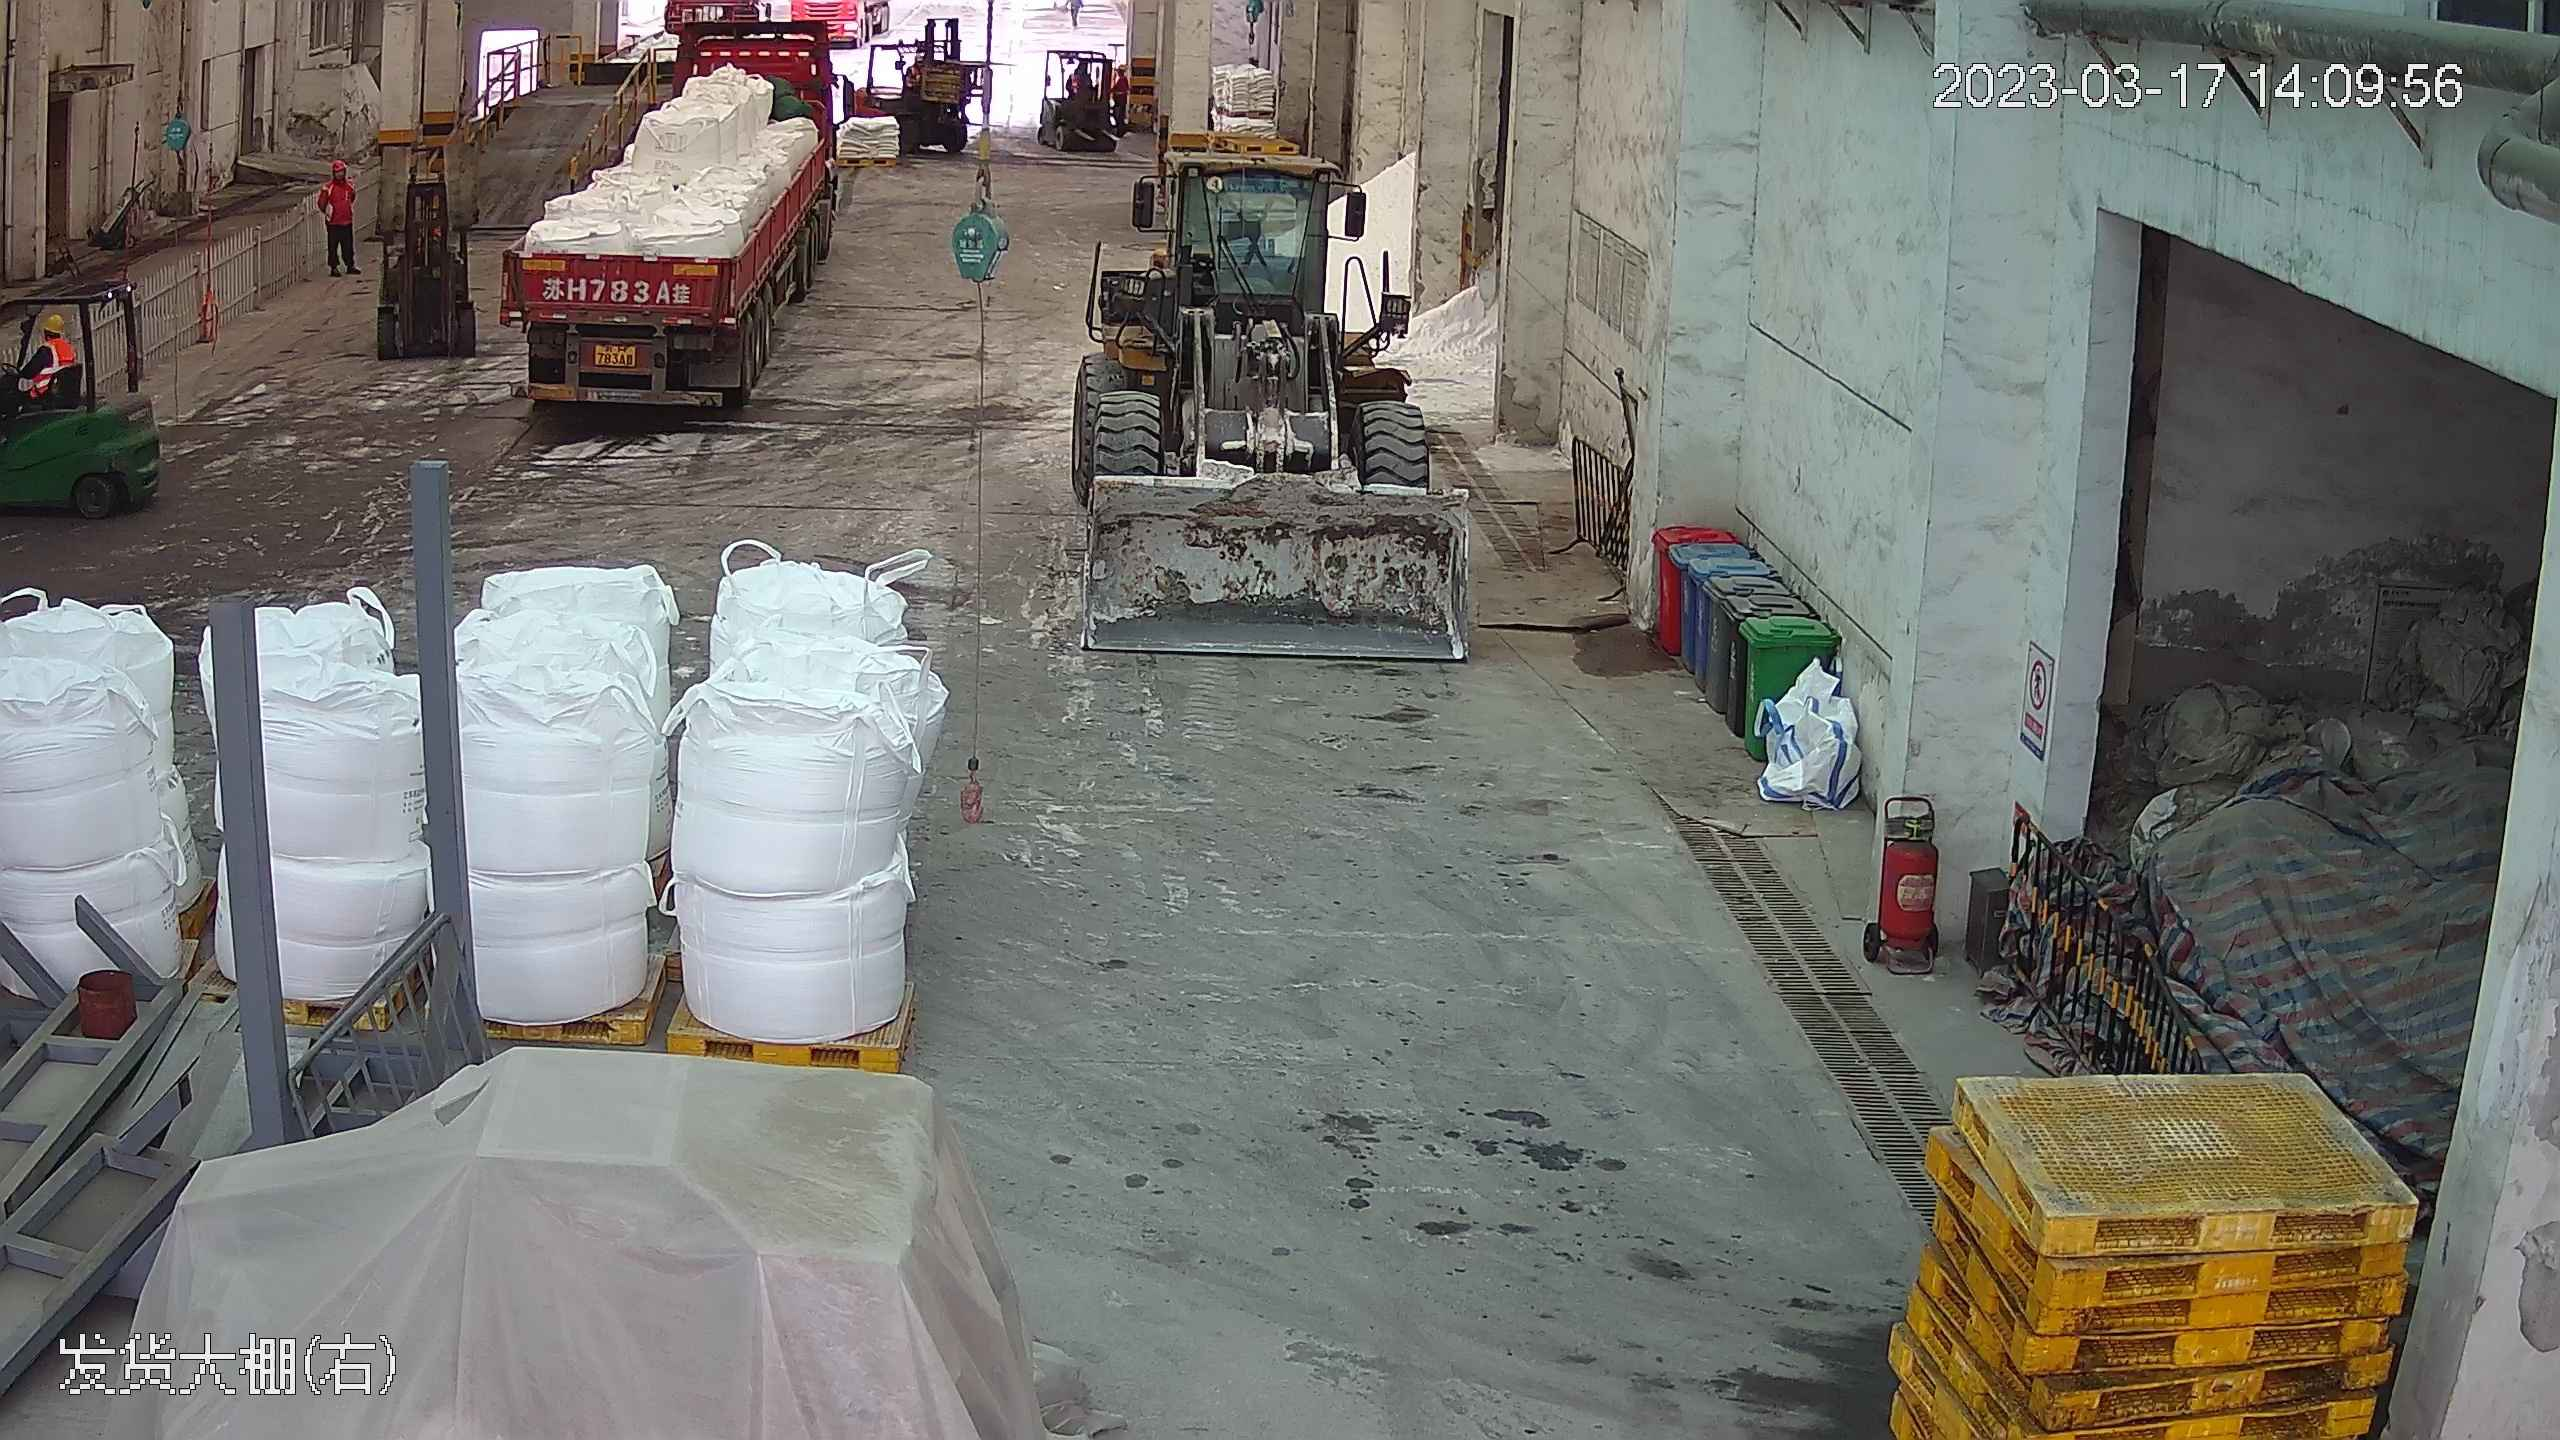head: (29, 309, 76, 364), (320, 156, 353, 194)
helmet: (37, 306, 67, 329), (330, 159, 346, 174)
people: (1, 313, 77, 426), (314, 154, 360, 272)
truck: (497, 12, 845, 413)
